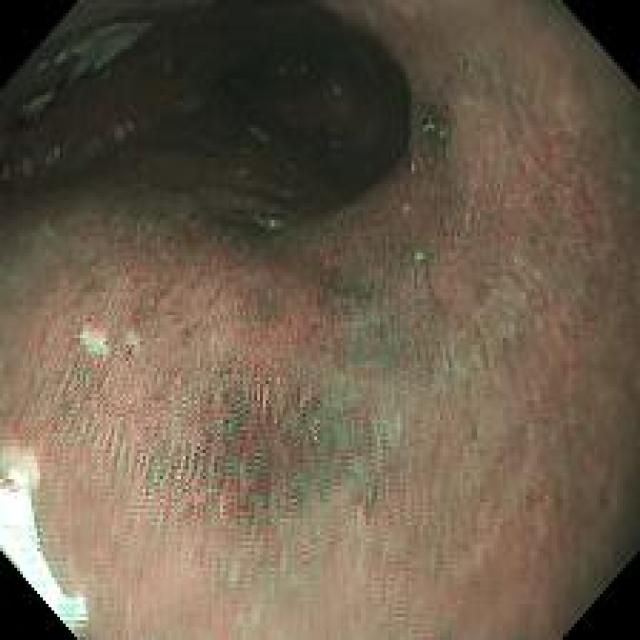blur: (11, 224, 621, 634)
color misalignment: (13, 240, 427, 598), (1, 462, 89, 633)
contrast: (105, 8, 430, 226)
